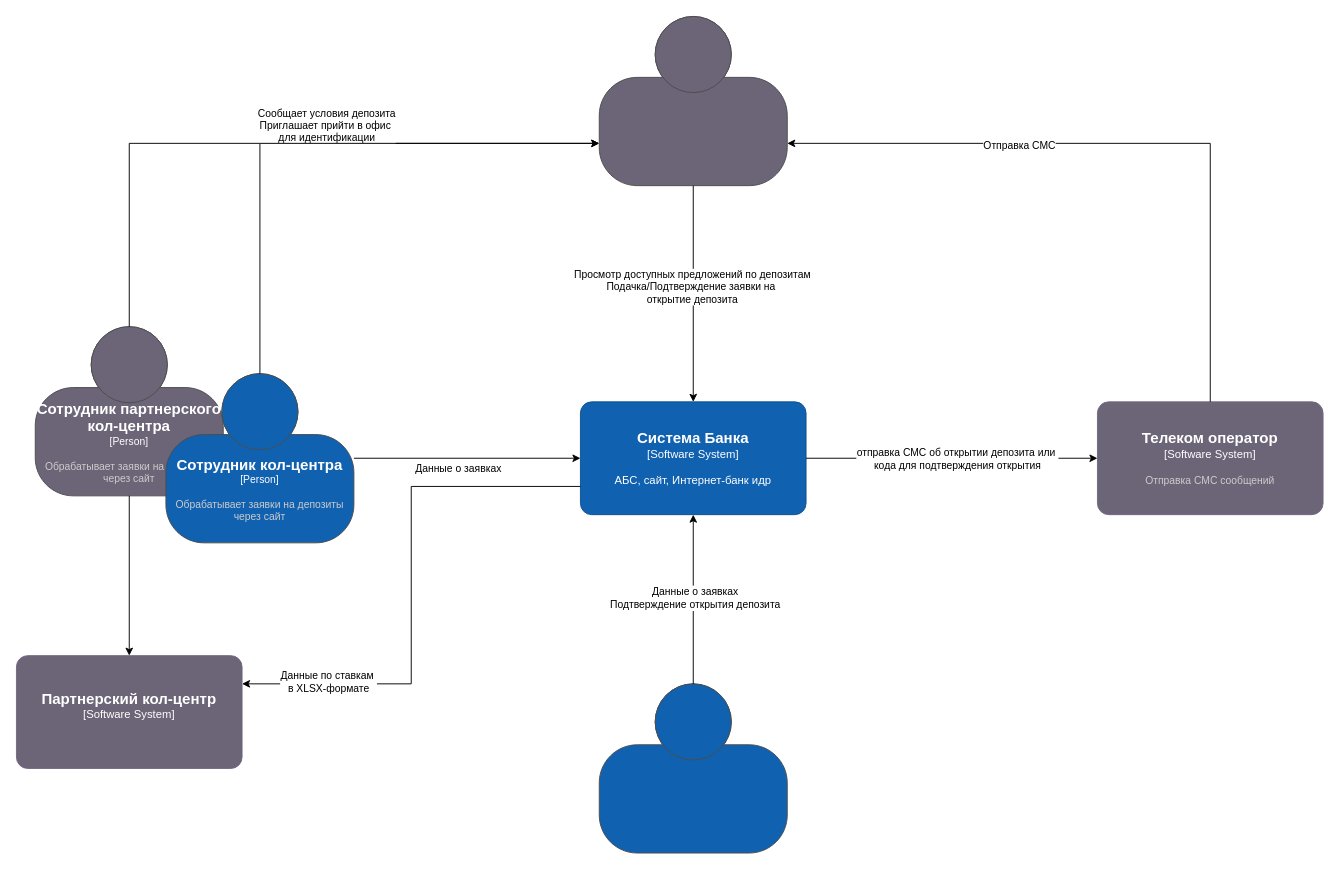
Some shapes in this 1340 by 870 pixel diagram are drawn without their labels. The box of each missing label's shape, as (x1, y1, x2, y2) in pixels:
Клиент банка [Person] Новый или существующий: (598, 16, 787, 186)
Сотрудник бэк-офиса [Person] Обрабатывает заявки на депозиты через интернет-банк: (598, 683, 787, 853)
